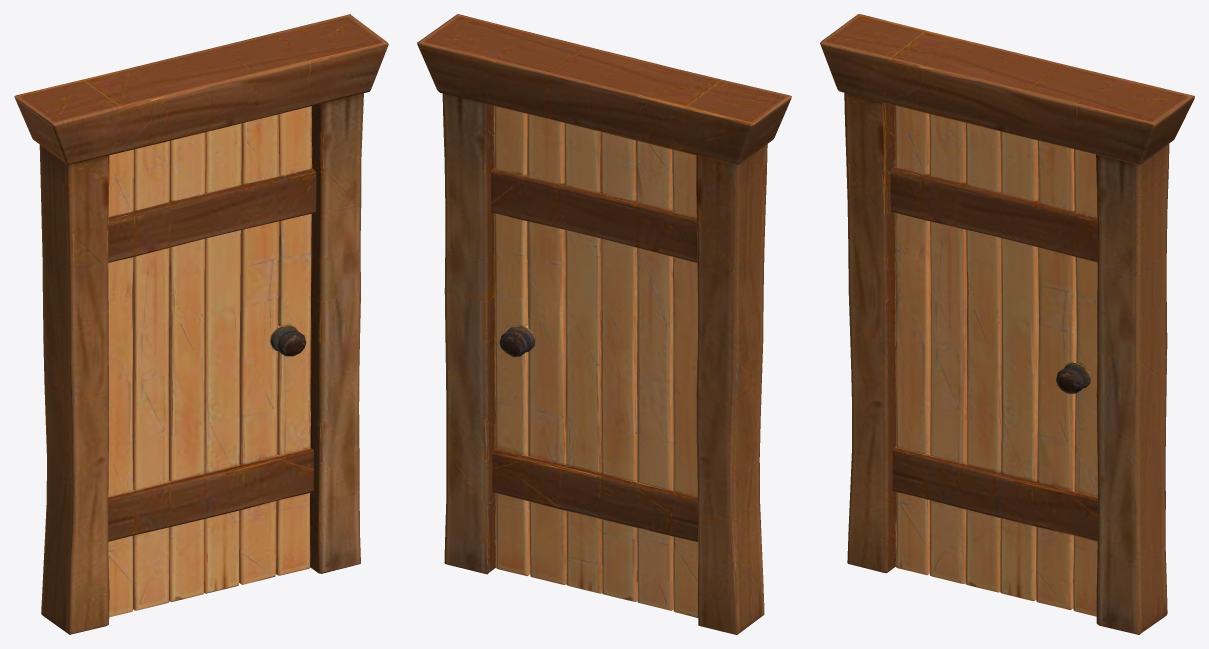
Rendered from room_door.glb.
The picture shows the model from 3 angles, left to right: view 1: azimuth 30°, elevation 25°; view 2: azimuth 150°, elevation 25°; view 3: azimuth 330°, elevation 25°; orthographic projection.
Bounding box in the file's own units: 0.6768 × 1 × 0.1412.
Materials: 1 (1 with a texture image).
